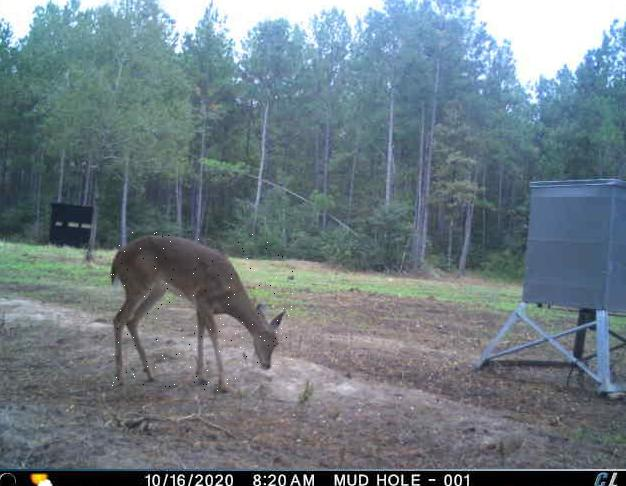Deer: (109, 232, 293, 395)
